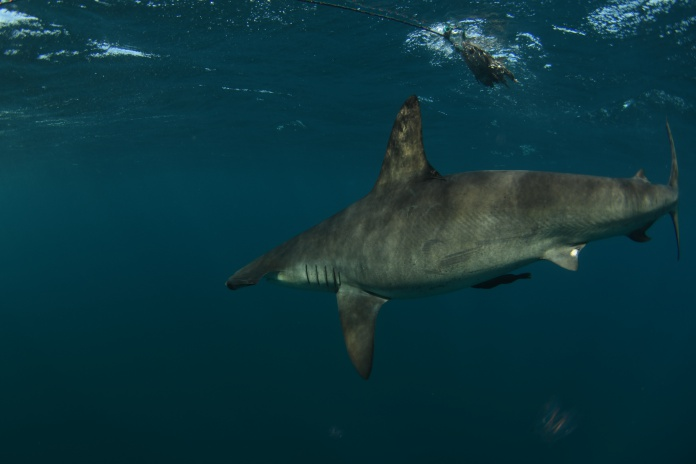Hammer: (207, 81, 696, 373)
